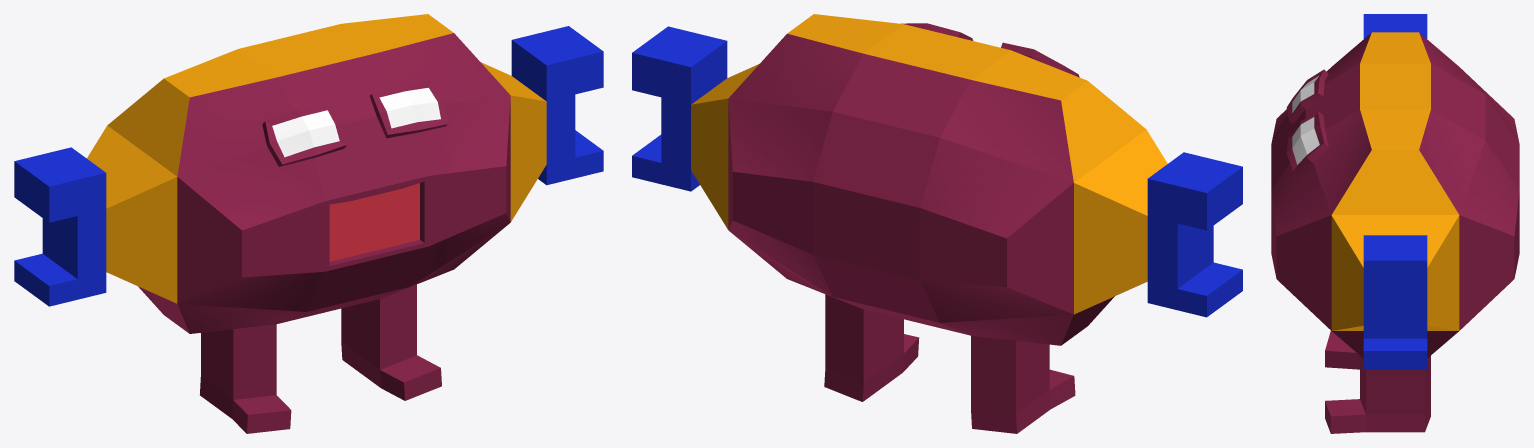
Rendered from YellowPlayer.fbx.
The picture shows the model from 3 angles, left to right: view 1: azimuth 30°, elevation 25°; view 2: azimuth 150°, elevation 25°; view 3: azimuth 270°, elevation 25°; orthographic projection. The views are drawn at different scales.
Parts seen in each view (by area): view 1: Mball.001; view 2: Mball.001; view 3: Mball.001.
Boxes of the visible parts, x1,y1,x2,y2 form: Mball.001: (14,14,603,433); Mball.001: (632,14,1242,433); Mball.001: (1271,14,1519,433).
Bounding box in the file's own units: 474 × 275 × 202.
